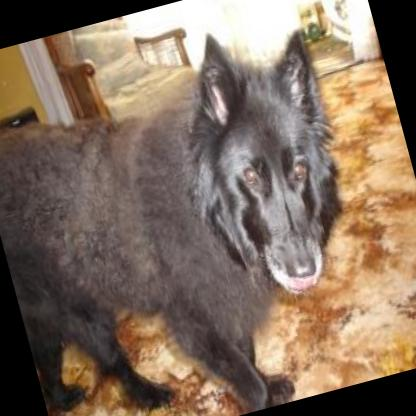groenendael: (0, 7, 395, 416)
